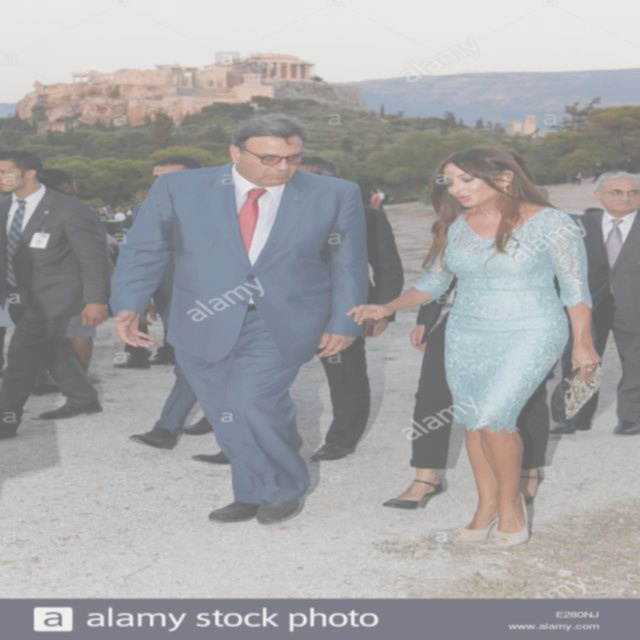pessoa: (106, 112, 374, 526), (344, 146, 612, 552), (185, 150, 408, 468), (381, 147, 574, 512), (540, 167, 640, 437), (127, 155, 218, 451), (36, 168, 96, 374), (111, 316, 179, 371), (97, 201, 139, 270), (366, 186, 386, 212), (622, 155, 640, 177), (532, 184, 552, 200), (571, 168, 587, 186), (573, 204, 607, 212), (592, 162, 604, 184)
